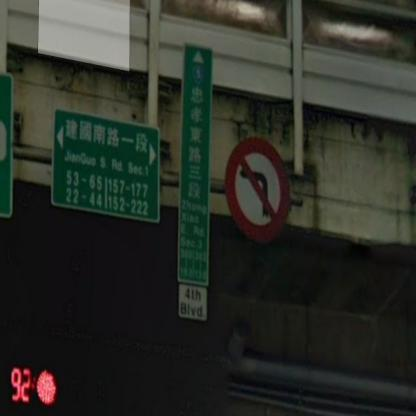Red Light: (6, 359, 72, 409)
